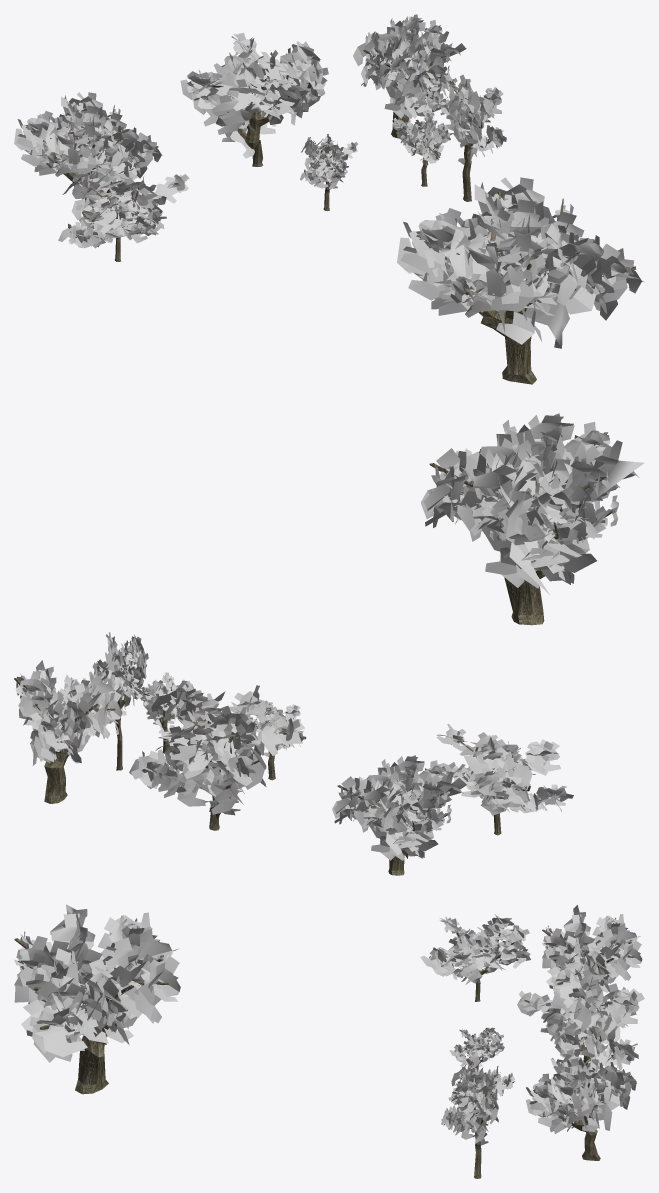
The model's file is Trees.fbx.
3 views of the same model, one above another, from view 1: azimuth 30°, elevation 25°; view 2: azimuth 150°, elevation 25°; view 3: azimuth 270°, elevation 25° (orthographic). The views are drawn at different scales.
Visible parts, largest first — view 1: Tree_Cañada01.003, arbol003.001, Tree_Cañada01.002, Tree_Cañada01.001, arbol003.005, arbol003.004, arbol003.002, arbol003.003; view 2: Tree_Cañada01.003, arbol003.001, Tree_Cañada01.002, Tree_Cañada01.001, arbol003.005, arbol003.004, arbol003.003, arbol003.002; view 3: Tree_Cañada01.003, arbol003.001, Tree_Cañada01.001, Tree_Cañada01.002, arbol003.005, arbol003.004, arbol003.002.
Part boxes in pixels (bbox=[...]): Tree_Cañada01.003: bbox=[397, 177, 644, 384]; arbol003.001: bbox=[180, 32, 328, 166]; Tree_Cañada01.002: bbox=[14, 92, 162, 186]; Tree_Cañada01.001: bbox=[353, 14, 466, 138]; arbol003.005: bbox=[58, 157, 189, 261]; arbol003.004: bbox=[425, 71, 506, 201]; arbol003.002: bbox=[300, 134, 357, 210]; arbol003.003: bbox=[392, 108, 453, 186]; Tree_Cañada01.003: bbox=[420, 413, 644, 625]; arbol003.001: bbox=[129, 680, 304, 830]; Tree_Cañada01.002: bbox=[332, 755, 466, 875]; Tree_Cañada01.001: bbox=[14, 660, 122, 803]; arbol003.005: bbox=[422, 724, 573, 835]; arbol003.004: bbox=[89, 632, 148, 770]; arbol003.003: bbox=[133, 672, 191, 753]; arbol003.002: bbox=[245, 700, 306, 780]; Tree_Cañada01.003: bbox=[14, 904, 180, 1094]; arbol003.001: bbox=[517, 956, 644, 1070]; Tree_Cañada01.001: bbox=[526, 1050, 636, 1160]; Tree_Cañada01.002: bbox=[542, 905, 642, 1000]; arbol003.005: bbox=[420, 914, 530, 1001]; arbol003.004: bbox=[441, 1064, 515, 1178]; arbol003.002: bbox=[449, 1027, 504, 1070].
Size of the model in its own units: 115 by 46.98 by 155.
